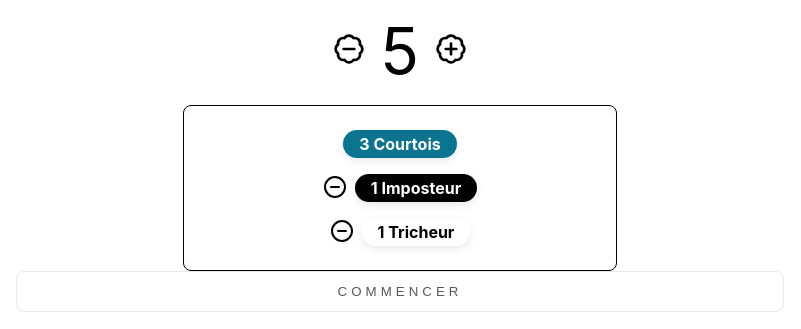
Test: CreateGamePage › Given i'm on this page     When I click 2 times on the remove button     Then the counter of player is egal at 3         And the remove button is disabled
The width and height of the screenshot is (801, 329).
Click the button named "less-button" at {"x": 349, "y": 50}, box [333, 33, 365, 68]
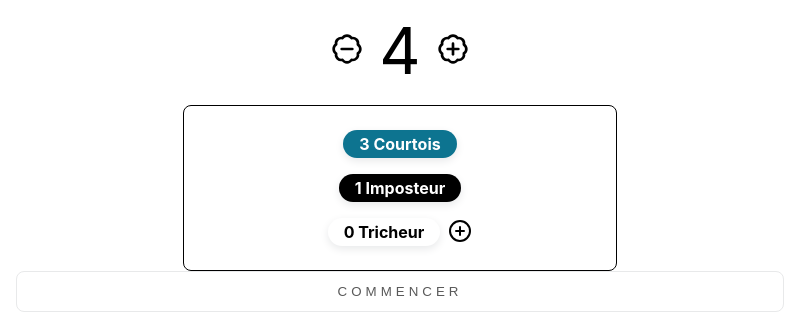
Click the button named "less-button" at {"x": 347, "y": 50}, box [331, 33, 363, 68]
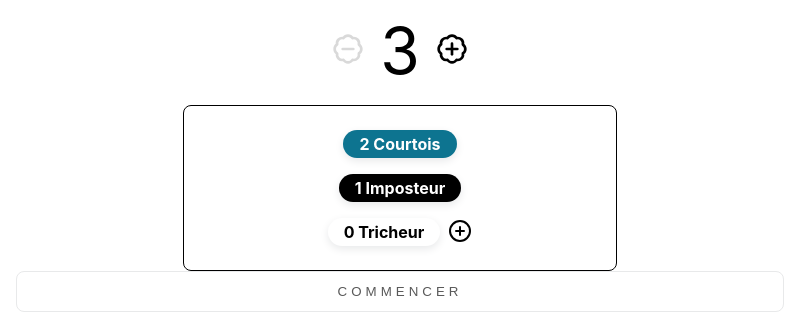
Check: the text named "count-player" reads "3", box [380, 12, 420, 89]
